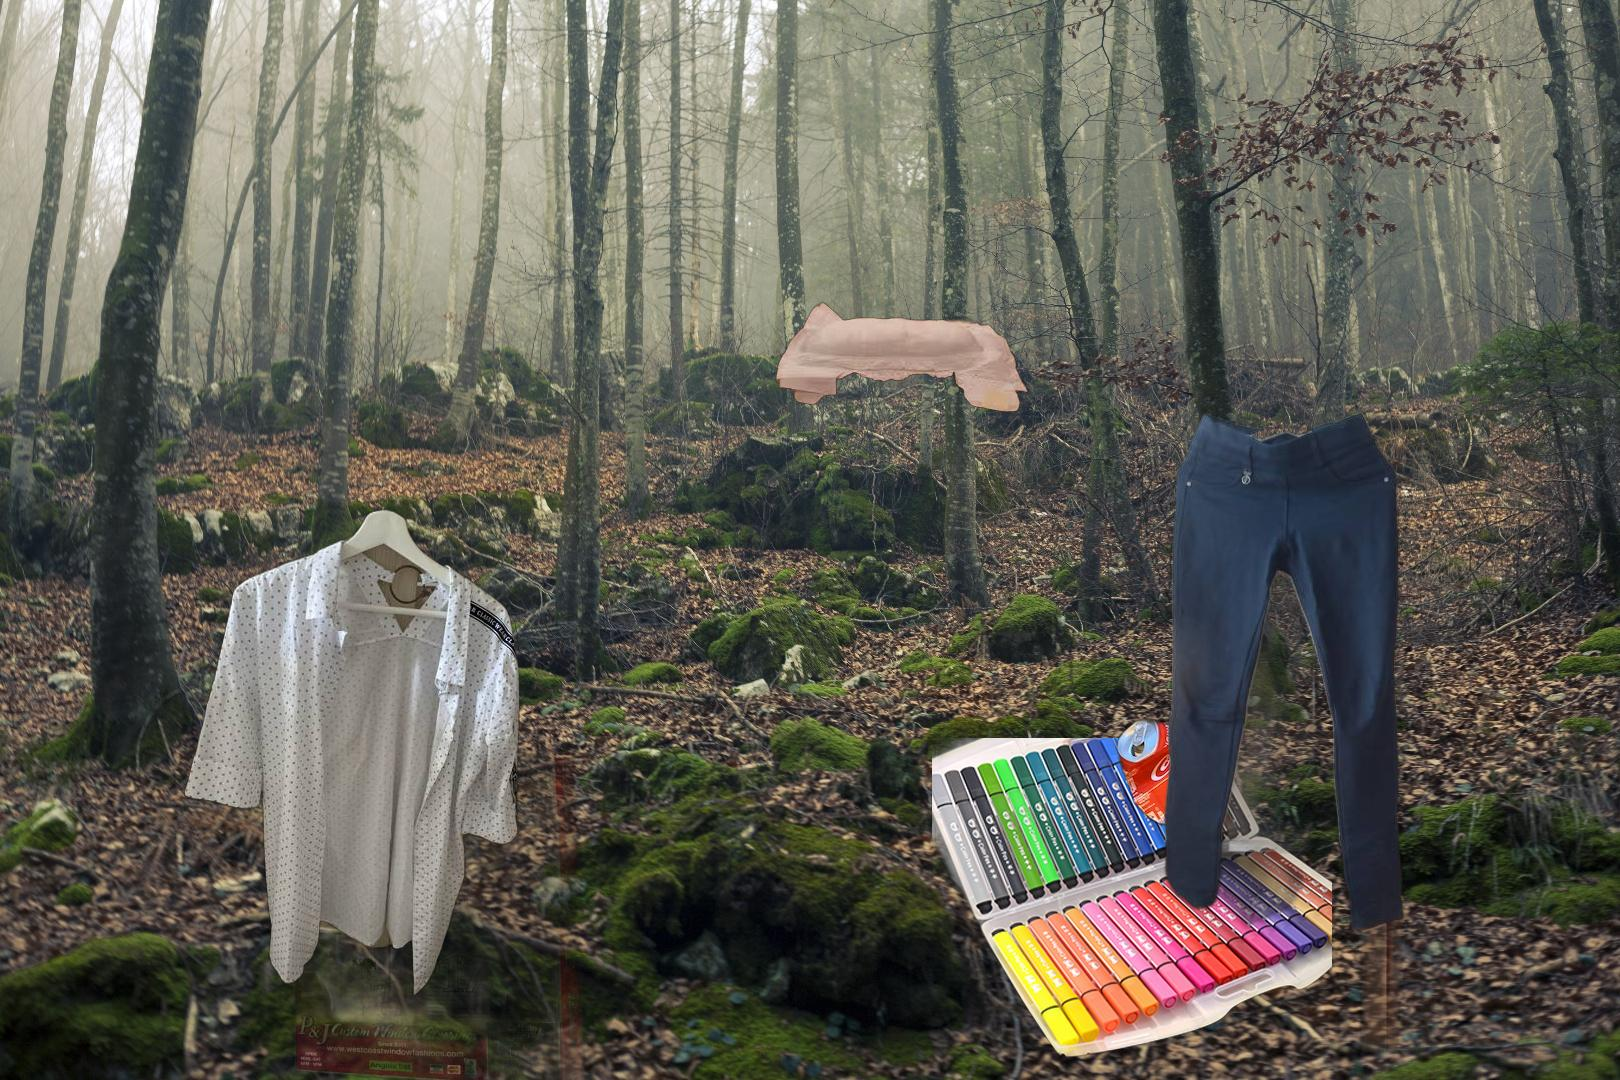clothes: (180, 472, 523, 1000), (1162, 407, 1407, 1052)
metal-cans: (1113, 712, 1214, 832)
paper: (116, 740, 595, 1080)
penholder: (932, 738, 1332, 1061)
trash: (771, 299, 1031, 415)
